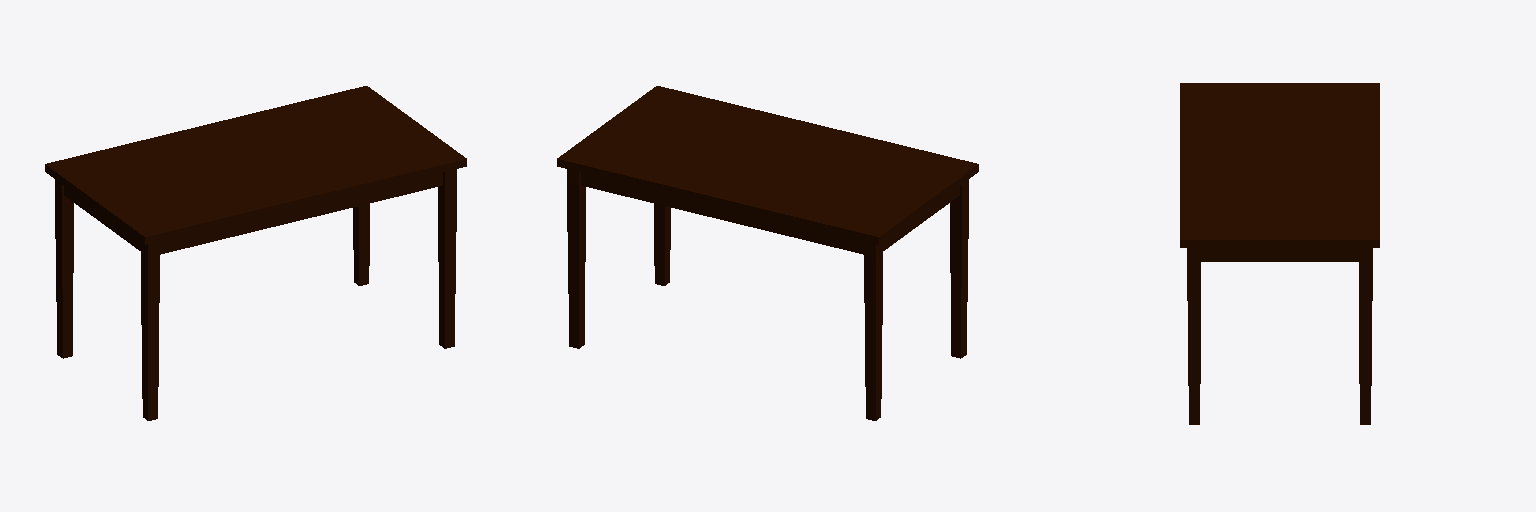
The model's file is oldTable.obj.
3 views of the same model, side by side, from view 1: azimuth 30°, elevation 25°; view 2: azimuth 150°, elevation 25°; view 3: azimuth 270°, elevation 25° (orthographic).
Parts seen in each view (by area): view 1: old_wooden_table_Untitled; view 2: old_wooden_table_Untitled; view 3: old_wooden_table_Untitled.
Boxes of the visible parts, <box> form: old_wooden_table_Untitled: <box>45,86,466,420</box>; old_wooden_table_Untitled: <box>557,86,978,420</box>; old_wooden_table_Untitled: <box>1180,83,1379,424</box>.
Size of the model in its own units: 1.3 by 0.73 by 0.7.